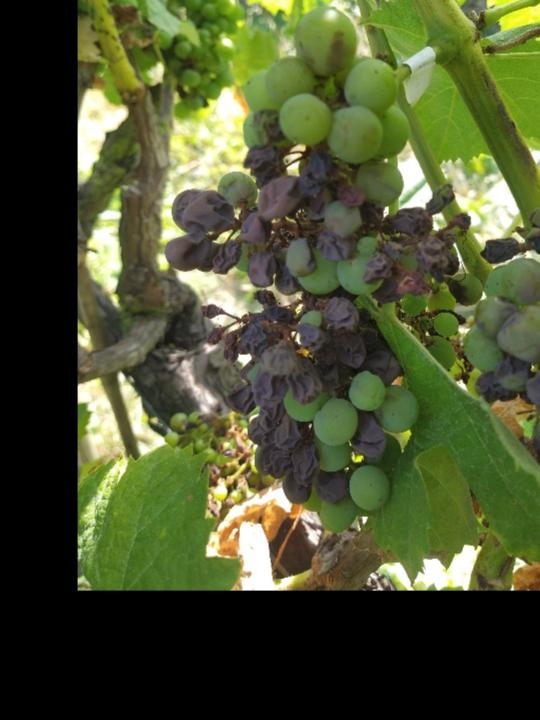grape: (165, 5, 482, 536), (93, 0, 235, 116)
